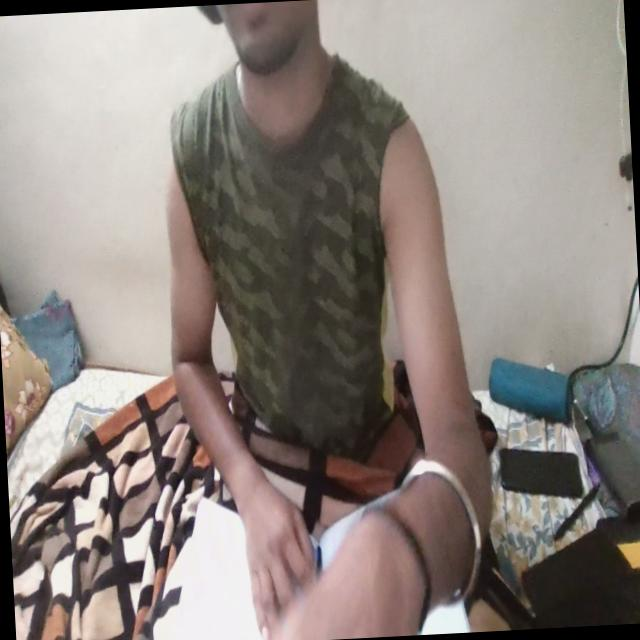pen: (301, 522, 326, 602)
